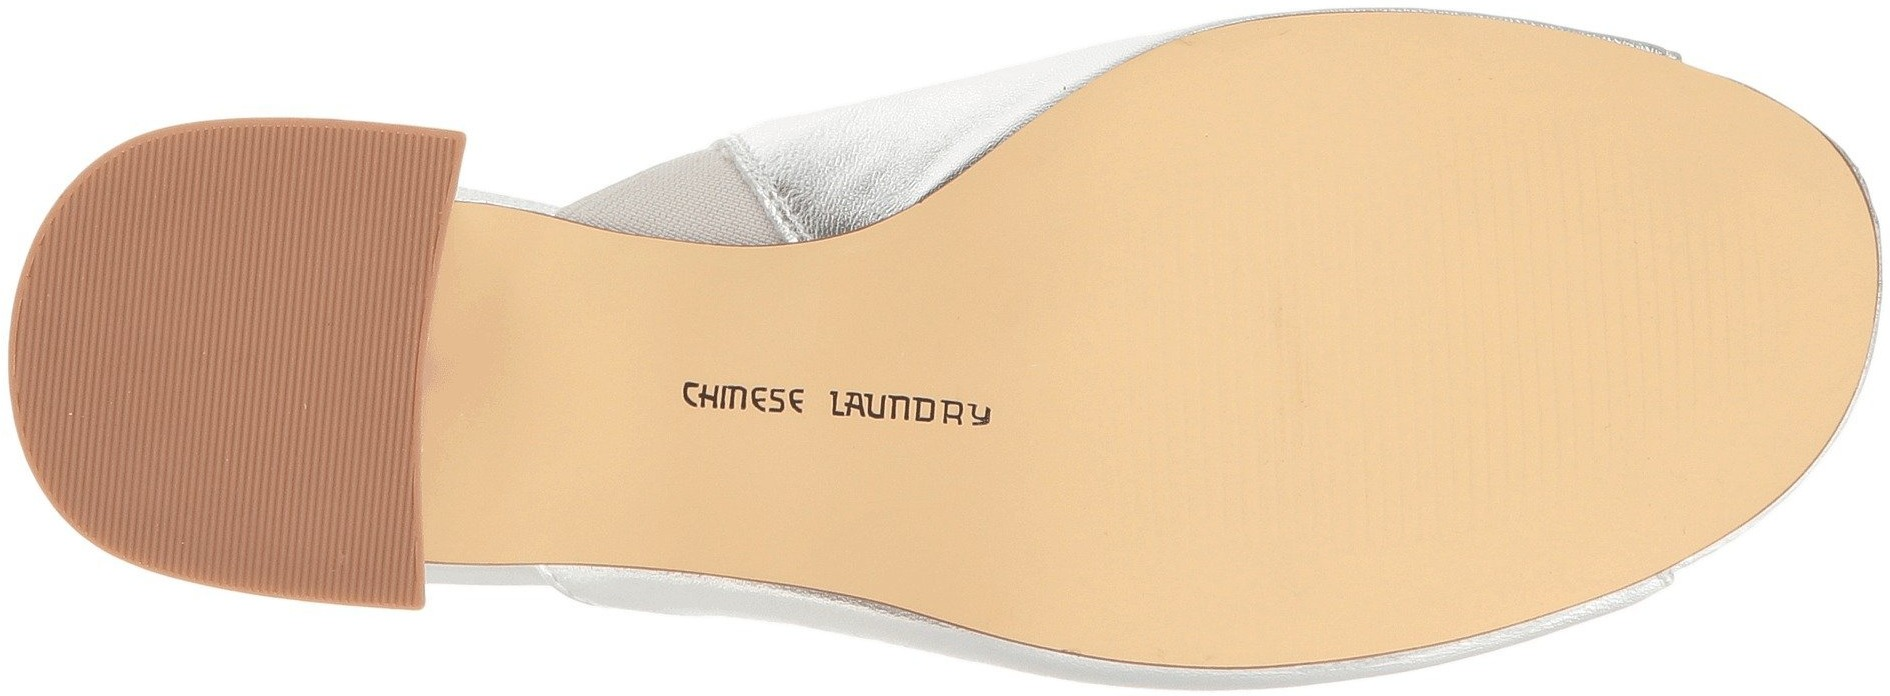exclude: (418, 194, 579, 560)
other: (1460, 151, 1743, 476), (59, 210, 358, 508), (1174, 131, 1427, 415)
text: (843, 367, 985, 490), (677, 351, 786, 454)
